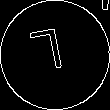L_S: (35, 27, 75, 83)
